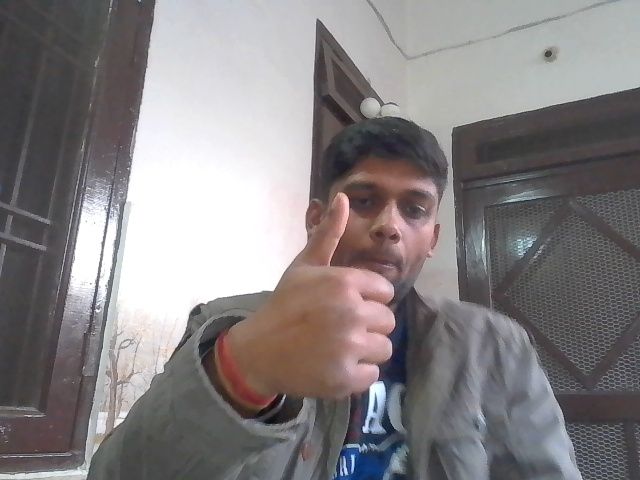BestOfLuck: (275, 189, 398, 396)
